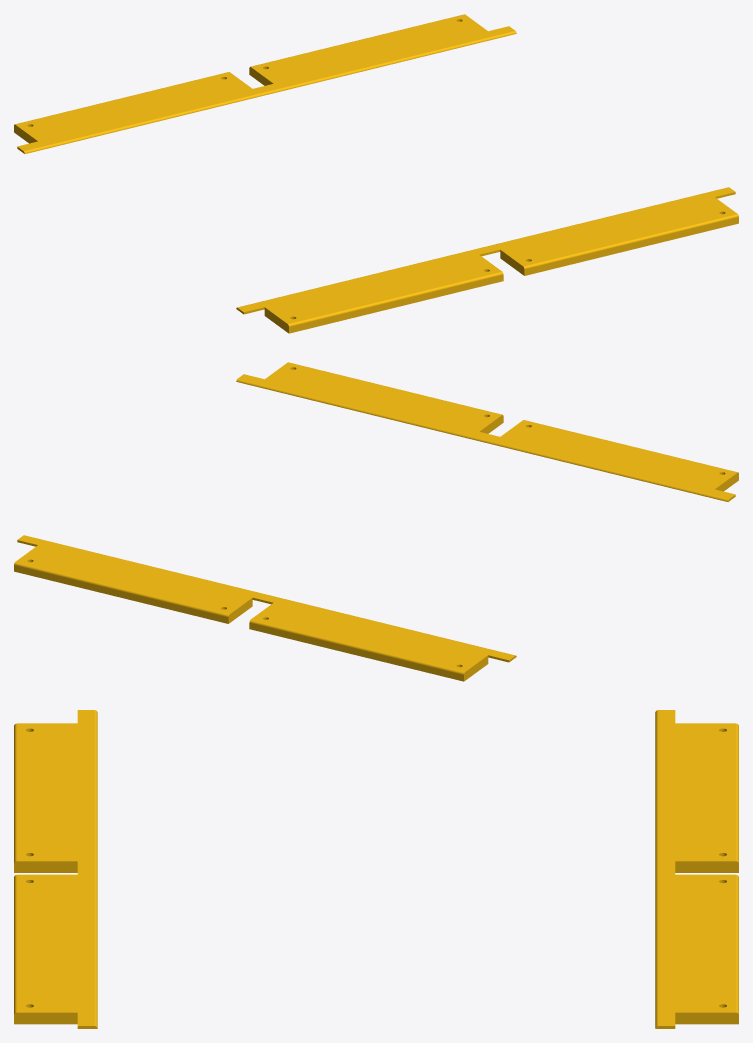
The model's file is cover_assembly_.dae.
3 renders of one model, top to bottom at view 1: azimuth 30°, elevation 25°; view 2: azimuth 150°, elevation 25°; view 3: azimuth 270°, elevation 25°, orthographic. The views are drawn at different scales.
Parts seen in each view (by area): view 1: Object.001; view 2: Object.001; view 3: Object.001.
Part boxes in pixels (x1,y1,x2,y2): Object.001: (14,14,738,333); Object.001: (14,362,738,681); Object.001: (14,710,738,1028).
Size of the model in its own units: 0.47 by 0.455 by 0.0083.
